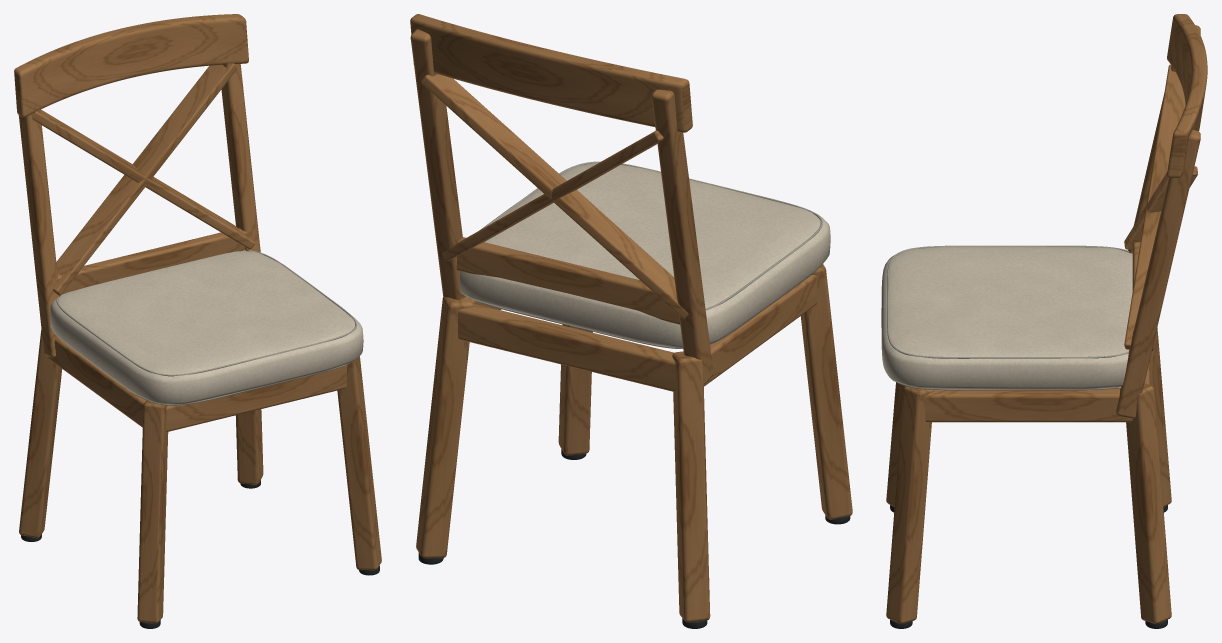
The picture shows the model from 3 angles, left to right: view 1: azimuth 30°, elevation 25°; view 2: azimuth 150°, elevation 25°; view 3: azimuth 270°, elevation 25°; orthographic projection. The views are drawn at different scales.
Visible parts, largest first — view 1: Linen | square cross-back seat, Oak | shallow curved crest, Oak | crossed broad back slat, Frame | timber leg, Frame | timber leg.002, Oak | rear stile, Frame | timber leg.001, Frame | cross apron, Oak | rear stile.001, Oak | low back cross rail, Oak | crossed broad back slat.001, Frame | side apron (+2 smaller); view 2: Linen | square cross-back seat, Oak | shallow curved crest, Frame | cross apron.001, Frame | timber leg.001, Oak | crossed broad back slat, Frame | timber leg.003, Oak | rear stile, Frame | timber leg, Oak | low back cross rail, Oak | rear stile.001, Frame | side apron, Oak | crossed broad back slat.001 (+2 smaller); view 3: Linen | square cross-back seat, Frame | timber leg.002, Frame | timber leg.003, Frame | side apron.001, Oak | rear stile.001, Oak | shallow curved crest, Oak | crossed broad back slat.001, Frame | timber leg.001, Linen | square cross-back seat | upper tailored welt, Frame | timber leg, Oak | crossed broad back slat, Oak | rear stile.
Boxes of the visible parts, bbox=[...] form: Linen | square cross-back seat: bbox=[50, 251, 363, 404]; Oak | shallow curved crest: bbox=[14, 14, 248, 117]; Oak | crossed broad back slat: bbox=[53, 63, 237, 295]; Frame | timber leg: bbox=[137, 400, 168, 623]; Frame | timber leg.002: bbox=[337, 356, 381, 570]; Oak | rear stile: bbox=[18, 109, 59, 357]; Frame | timber leg.001: bbox=[19, 329, 62, 538]; Frame | cross apron: bbox=[166, 365, 346, 431]; Oak | rear stile.001: bbox=[221, 63, 260, 252]; Oak | low back cross rail: bbox=[56, 228, 247, 294]; Oak | crossed broad back slat.001: bbox=[32, 109, 254, 249]; Frame | side apron: bbox=[48, 337, 146, 427]; Linen | square cross-back seat: bbox=[460, 162, 830, 348]; Oak | shallow curved crest: bbox=[410, 14, 692, 132]; Frame | cross apron.001: bbox=[458, 303, 675, 391]; Frame | timber leg.001: bbox=[672, 351, 710, 622]; Oak | crossed broad back slat: bbox=[421, 74, 688, 319]; Frame | timber leg.003: bbox=[416, 296, 473, 558]; Oak | rear stile: bbox=[651, 89, 713, 384]; Frame | timber leg: bbox=[800, 264, 852, 519]; Oak | low back cross rail: bbox=[456, 237, 680, 324]; Oak | rear stile.001: bbox=[410, 29, 465, 299]; Frame | side apron: bbox=[703, 275, 817, 386]; Oak | crossed broad back slat.001: bbox=[442, 130, 663, 261]; Linen | square cross-back seat: bbox=[881, 246, 1132, 389]; Frame | timber leg.002: bbox=[886, 386, 934, 623]; Frame | timber leg.003: bbox=[1126, 383, 1171, 623]; Frame | side apron.001: bbox=[925, 388, 1132, 422]; Oak | rear stile.001: bbox=[1116, 130, 1200, 418]; Oak | shallow curved crest: bbox=[1167, 14, 1207, 177]; Oak | crossed broad back slat.001: bbox=[1124, 64, 1185, 350]; Frame | timber leg.001: bbox=[1150, 328, 1171, 506]; Linen | square cross-back seat | upper tailored welt: bbox=[887, 245, 1132, 358]; Frame | timber leg: bbox=[886, 382, 904, 506]; Oak | crossed broad back slat: bbox=[1124, 166, 1197, 249]; Oak | rear stile: bbox=[1128, 25, 1200, 252].
Size of the model in its own units: 0.5374 by 0.9825 by 0.58.
4 materials, 2 textured.
